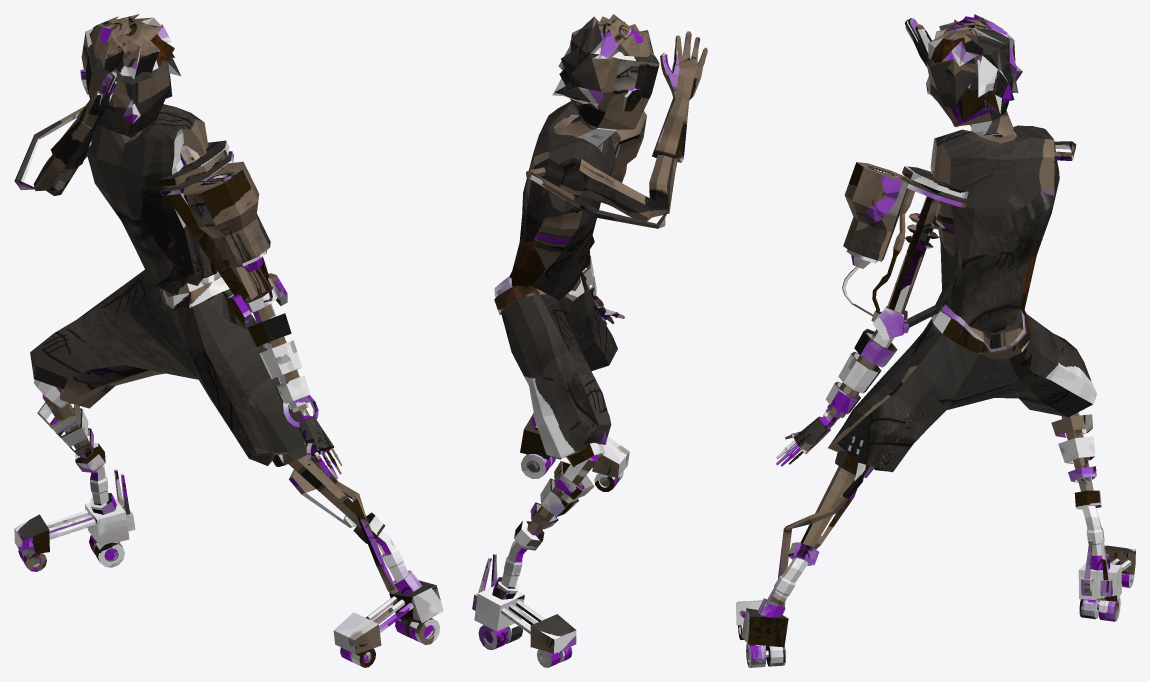
File: CyborgFINALAnimation_000026.obj
The picture shows the model from 3 angles, left to right: view 1: azimuth 30°, elevation 25°; view 2: azimuth 150°, elevation 25°; view 3: azimuth 270°, elevation 25°; orthographic projection. The views are drawn at different scales.
Parts seen in each view (by area): view 1: CyborgMesh_Cube.002; view 2: CyborgMesh_Cube.002; view 3: CyborgMesh_Cube.002.
Part boxes in pixels (x1=…): CyborgMesh_Cube.002: x1=14, y1=14, x2=443, y2=667; CyborgMesh_Cube.002: x1=472, y1=14, x2=707, y2=667; CyborgMesh_Cube.002: x1=736, y1=14, x2=1135, y2=667.
Bounding box in the file's own units: 4.19 × 8.66 × 5.44.
